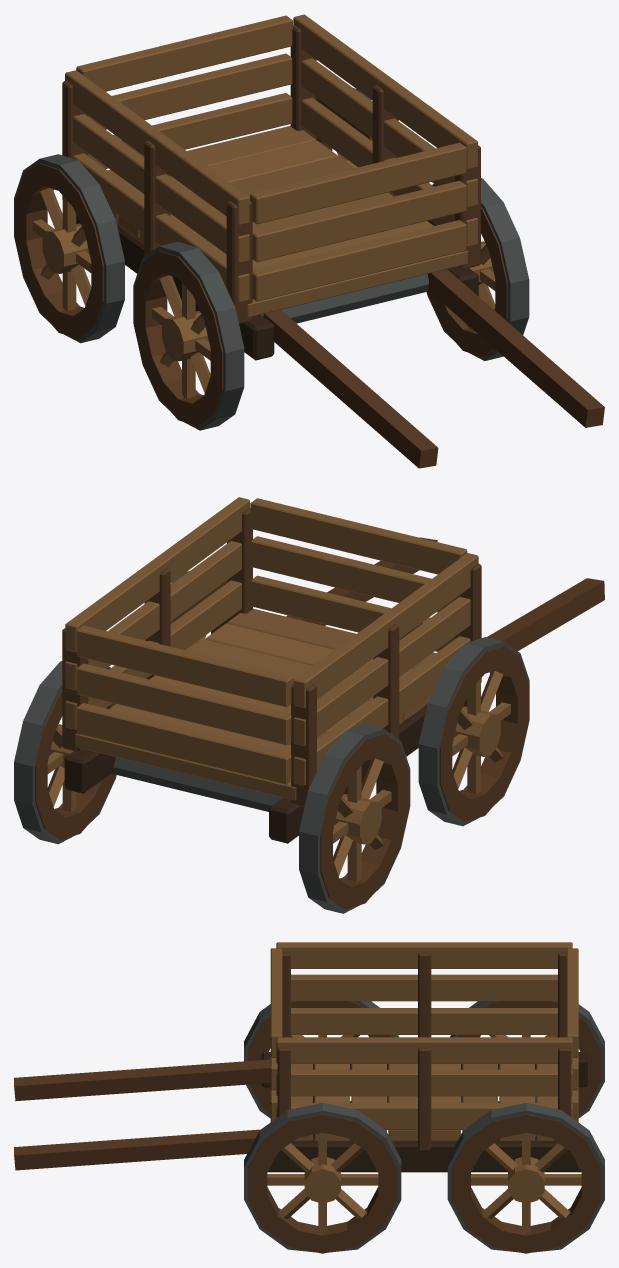
The model's file is cart.glb.
3 views of the same model, one above another, from view 1: azimuth 30°, elevation 25°; view 2: azimuth 150°, elevation 25°; view 3: azimuth 270°, elevation 25° (orthographic). The views are drawn at different scales.
Parts seen in each view (by area): view 1: Timber, Metal; view 2: Timber, Metal; view 3: Timber, Metal.
Boxes of the visible parts, box(x1,y1,x2,y2) form: Timber: box(15, 14, 604, 468); Metal: box(14, 88, 529, 430); Timber: box(35, 497, 604, 909); Metal: box(14, 571, 529, 913); Timber: box(14, 942, 600, 1253); Metal: box(244, 1001, 604, 1252).
Size of the model in its own units: 2.36 by 1.65 by 4.47.
